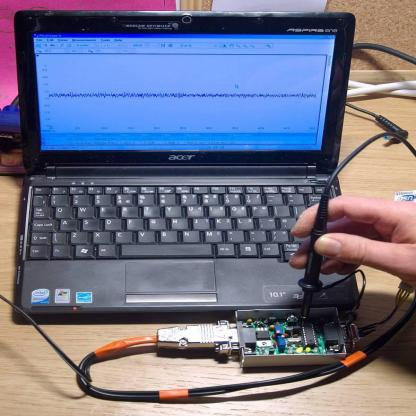board: (4, 4, 366, 348)
